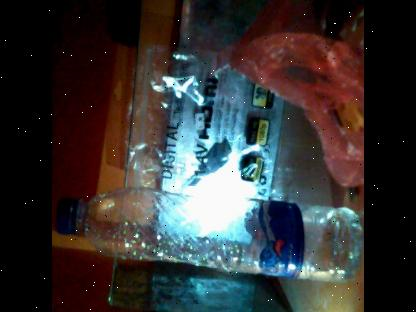Plastic Bottle: (52, 184, 364, 282)
